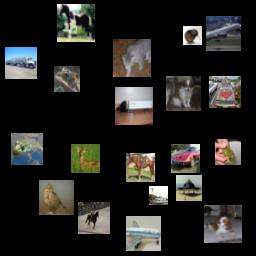airplane: (206, 16, 241, 51), (126, 216, 161, 251), (176, 175, 202, 201)
automobile: (209, 76, 241, 108), (171, 144, 200, 173)
bird: (39, 180, 74, 215), (183, 26, 202, 45)
cat: (113, 39, 151, 77)
deer: (71, 144, 100, 173)
dog: (204, 205, 242, 243), (166, 76, 201, 111)
frog: (11, 133, 43, 165), (54, 66, 80, 92), (215, 139, 241, 165)
ship: (149, 186, 168, 205)
truck: (115, 87, 153, 125), (5, 47, 37, 79)
